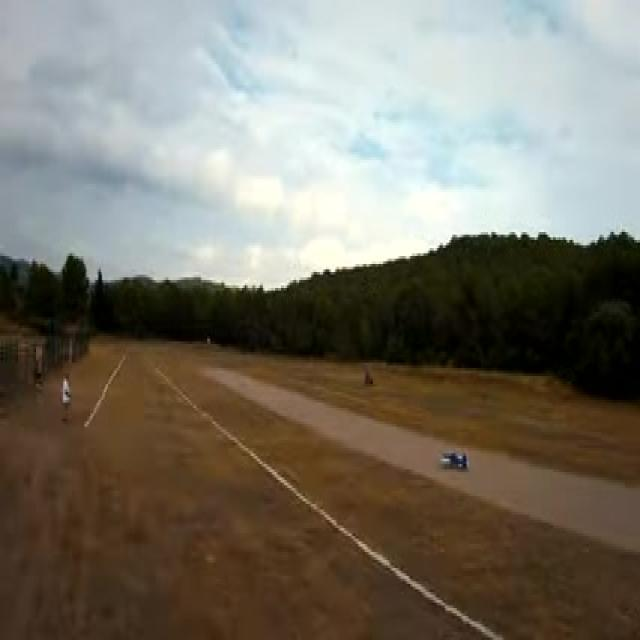iha: (437, 438, 470, 466)
